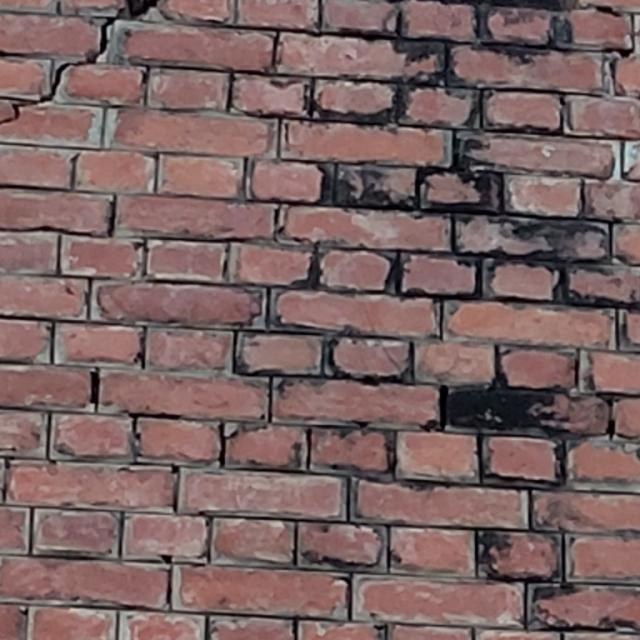crack: (433, 3, 639, 283), (0, 0, 189, 148), (78, 0, 153, 62)
